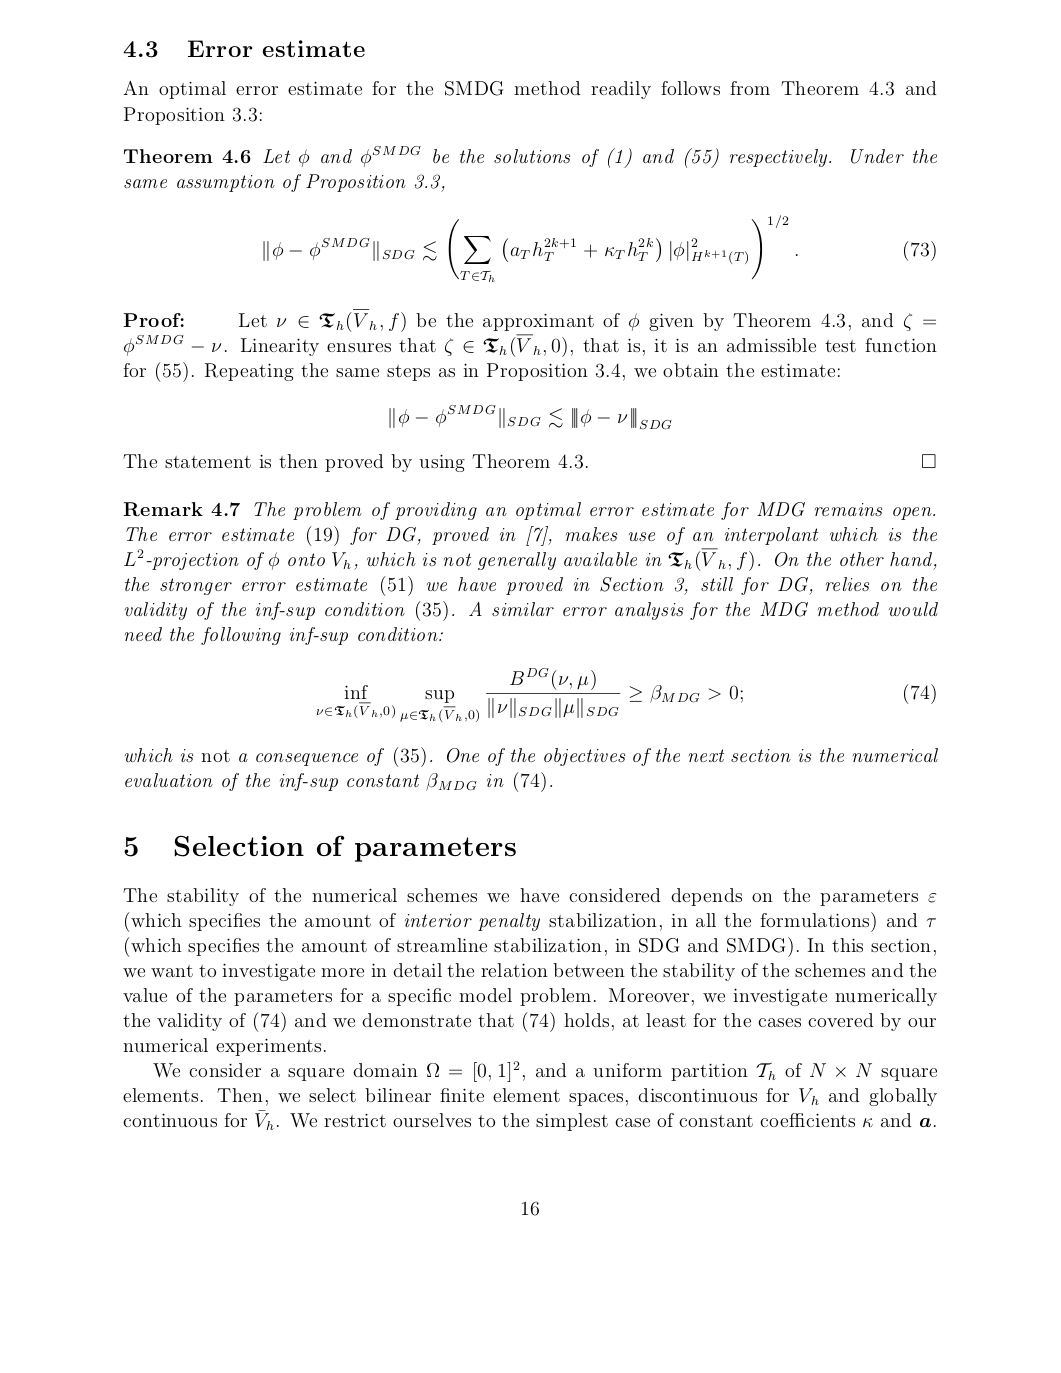formula: (263, 214, 935, 282), (317, 666, 935, 723), (389, 403, 671, 430)
